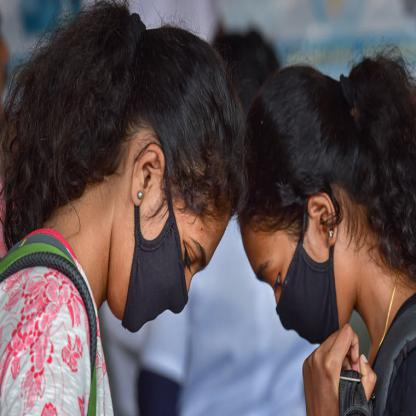Wearing_Mask: (109, 52, 218, 346), (251, 103, 368, 371)
